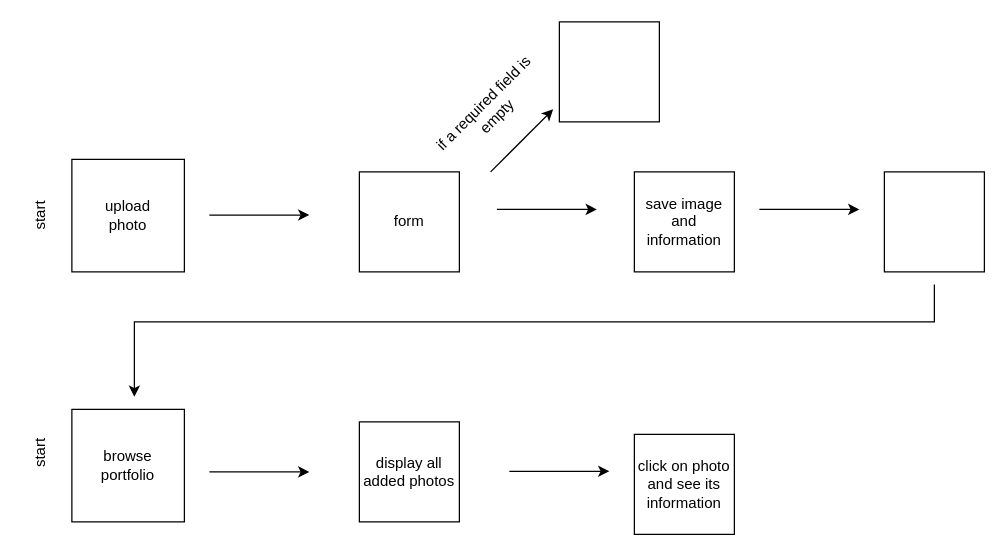
Some shapes in this 1006 by 556 pixel diagram are drawn without their labels. The centre of each missing label's shape, as x and y in pixels:
display with other added photos: point (933, 221)
refresh form: point (608, 71)
